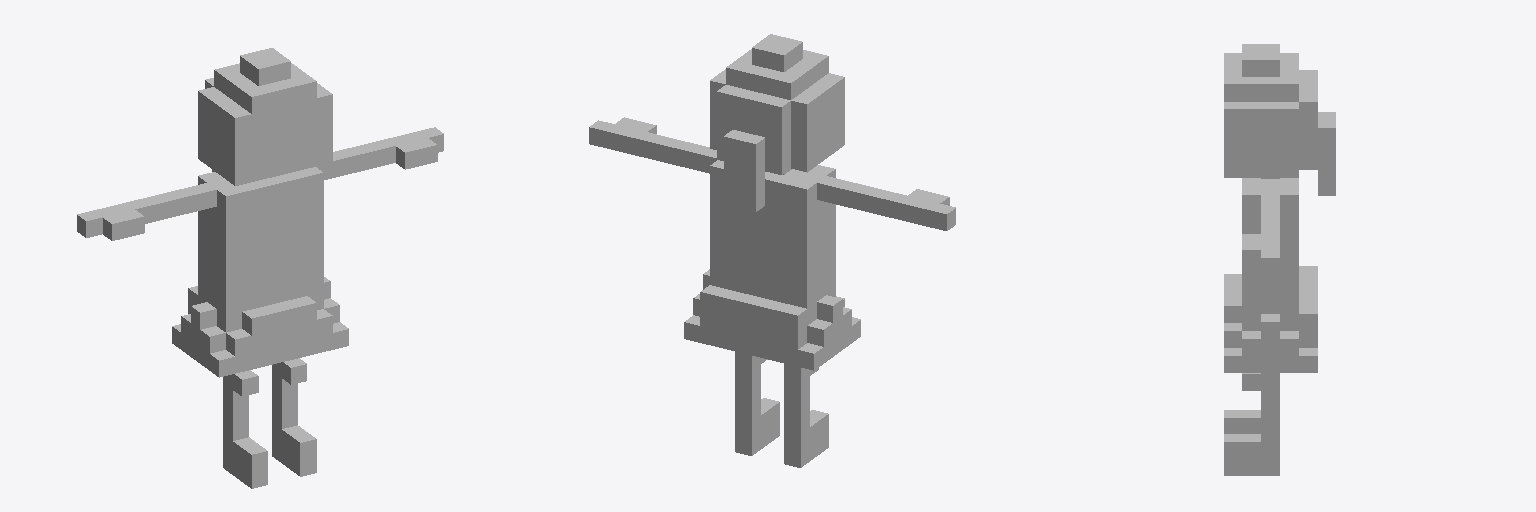
File: girl.obj
3 views of the same model, side by side, from view 1: azimuth 30°, elevation 25°; view 2: azimuth 150°, elevation 25°; view 3: azimuth 270°, elevation 25° (orthographic).
Parts seen in each view (by area): view 1: object 1; view 2: object 1; view 3: object 1.
Boxes of the visible parts, x1=… form: object 1: x1=77, y1=48, x2=443, y2=488; object 1: x1=589, y1=34, x2=955, y2=467; object 1: x1=1224, y1=44, x2=1335, y2=475.
Size of the model in its own units: 2.2 by 2.4 by 0.6.